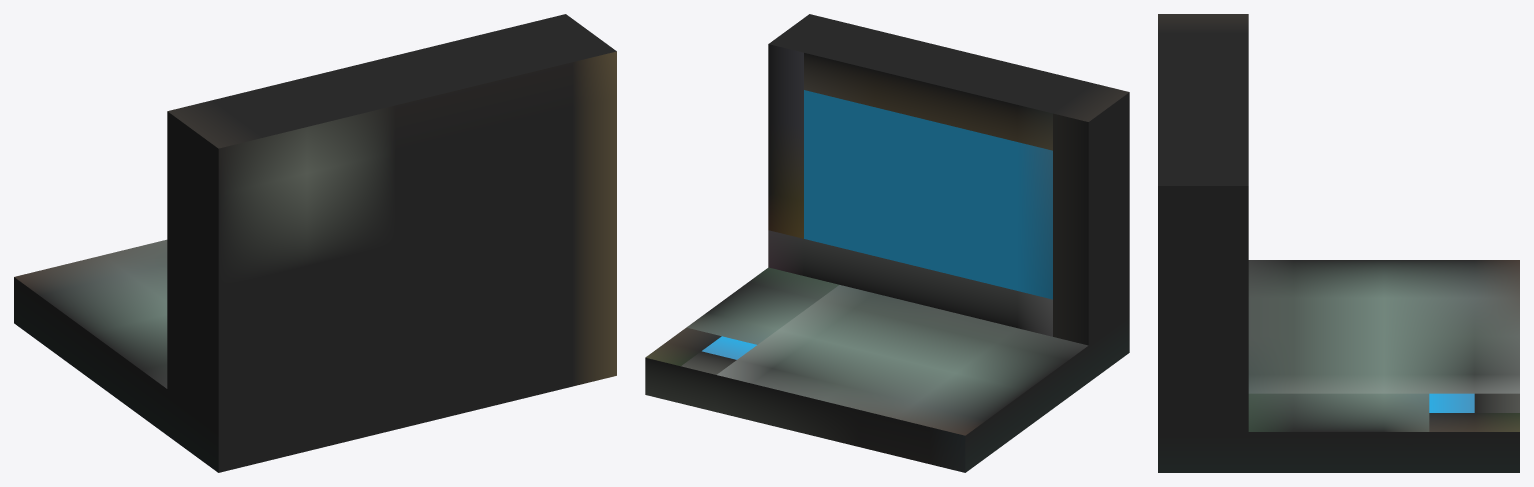
The model's file is LaptopBlack_00.obj.
3 renders of one model, left to right at view 1: azimuth 30°, elevation 25°; view 2: azimuth 150°, elevation 25°; view 3: azimuth 270°, elevation 25°, orthographic. The views are drawn at different scales.
Parts seen in each view (by area): view 1: LaptopBlack_00; view 2: LaptopBlack_00; view 3: LaptopBlack_00.
Part boxes in pixels (x1,y1,x2,y2): LaptopBlack_00: (14,14,616,472); LaptopBlack_00: (645,14,1129,472); LaptopBlack_00: (1158,14,1519,472).
Size of the model in its own units: 0.45 by 0.35 by 0.4.
